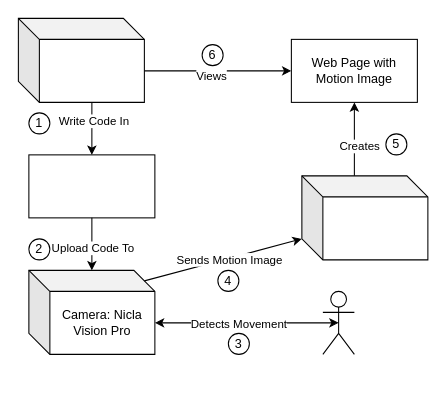
Some shapes in this 446 by 395 pixel diagram are drawn without their labels. Here are the shapes that lost their labels. From the top down, the centre of each, then its label:
the point at 80,59: User PC
the point at 91,186: OpenMV IDE
the point at 364,217: Raspberry PY with Apache Server
the point at 338,322: Actor
